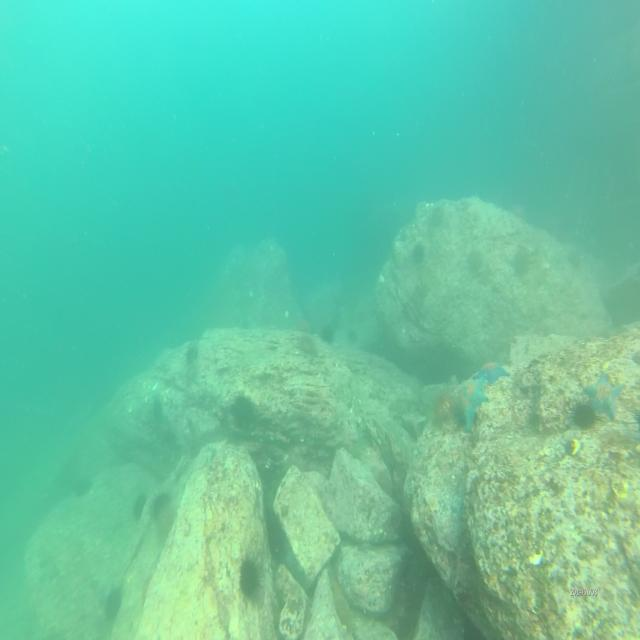echinus: (236, 554, 264, 597), (570, 395, 598, 432), (430, 387, 454, 428), (231, 392, 254, 427), (102, 587, 123, 624), (154, 506, 174, 544), (132, 490, 148, 523), (466, 247, 484, 274), (318, 319, 336, 344), (410, 239, 426, 263)
starfish: (453, 374, 489, 432), (581, 368, 620, 417), (478, 360, 507, 386)
